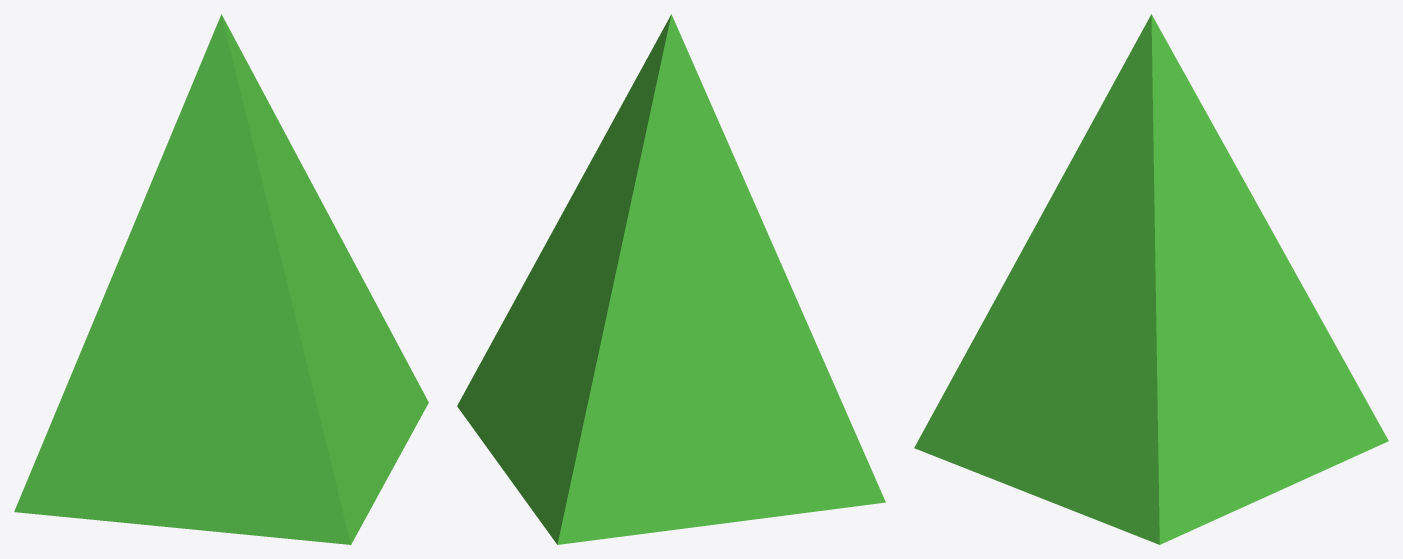
Rendered from pergunta19Obj.fbx.
3 views of the same model, side by side, from view 1: azimuth 30°, elevation 25°; view 2: azimuth 150°, elevation 25°; view 3: azimuth 270°, elevation 25° (orthographic). The views are drawn at different scales.
Parts seen in each view (by area): view 1: root; view 2: root; view 3: root.
Part boxes in pixels (x1,y1,x2,y2): root: (14,14,428,544); root: (457,14,885,544); root: (914,14,1388,544).
Bounding box in the file's own units: 0.3063 × 0.3065 × 0.3063.
Materials: 1 (1 with a texture image).
